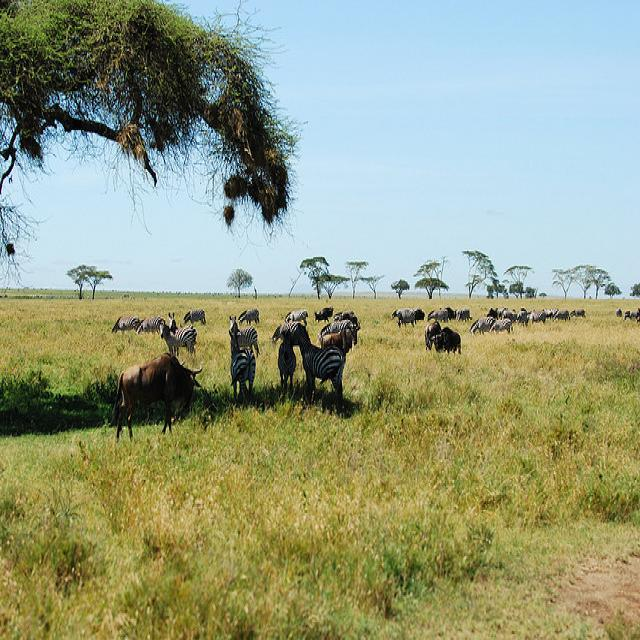cow: (106, 352, 201, 441), (429, 326, 461, 354), (319, 326, 351, 351), (423, 319, 440, 349)
